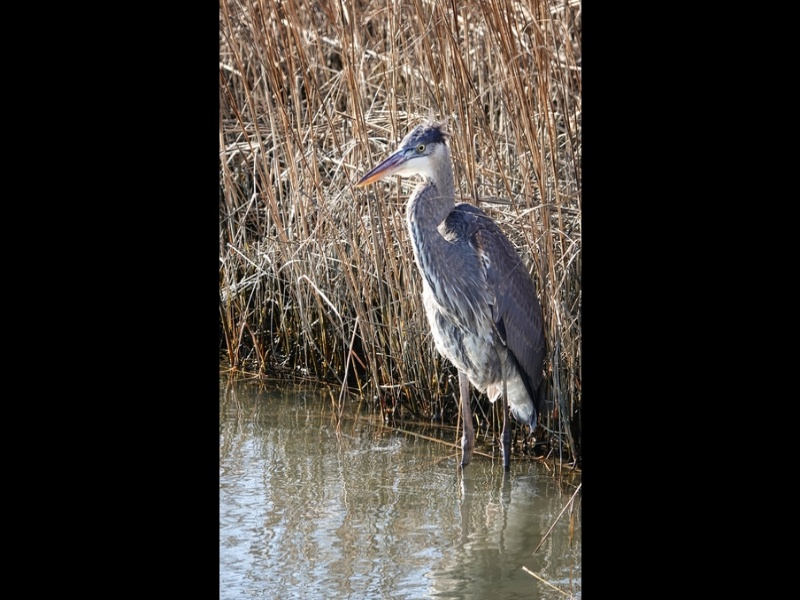heron: (354, 120, 548, 479)
